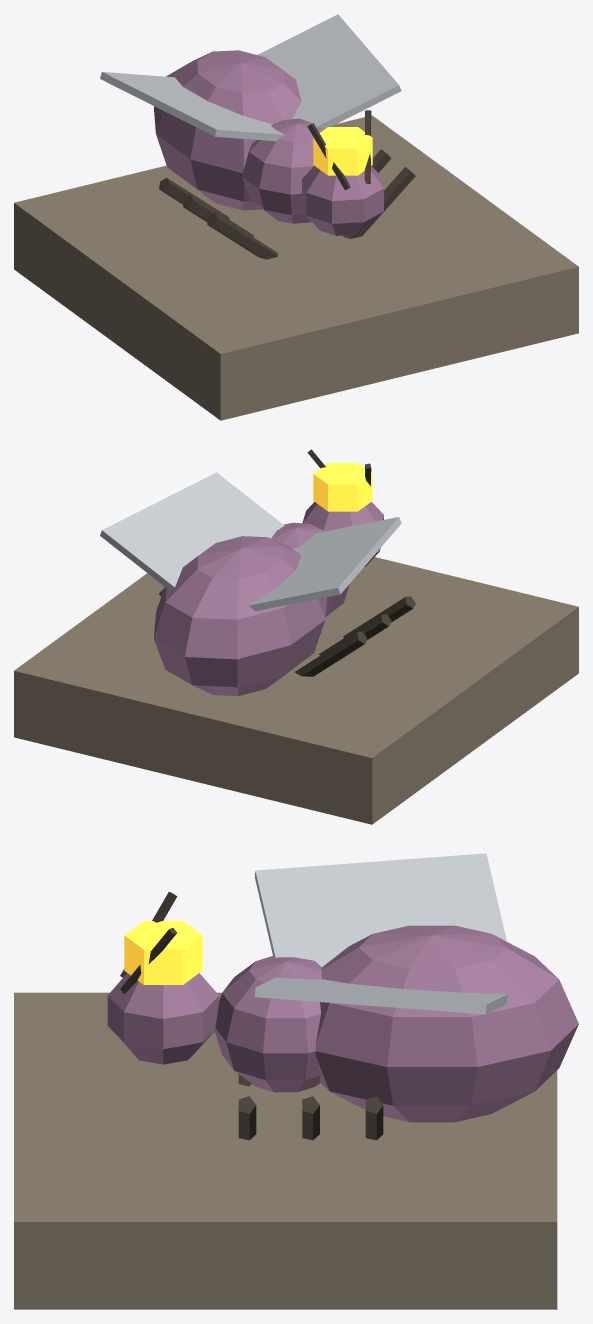
The model's file is bug_queen.glb.
The picture shows the model from 3 angles, top to bottom: view 1: azimuth 30°, elevation 25°; view 2: azimuth 150°, elevation 25°; view 3: azimuth 270°, elevation 25°; orthographic projection. The views are drawn at different scales.
Parts seen in each view (by area): view 1: Base, TurretMesh, HeadMesh, Crown; view 2: Base, TurretMesh, Crown, HeadMesh; view 3: Base, TurretMesh, HeadMesh, Crown.
Boxes of the visible parts, x1,y1,x2,y2 form: Base: [14, 115, 578, 420]; TurretMesh: [100, 14, 415, 259]; HeadMesh: [302, 110, 383, 235]; Crown: [313, 127, 372, 175]; Base: [14, 557, 578, 824]; TurretMesh: [100, 472, 415, 696]; Crown: [313, 463, 372, 511]; HeadMesh: [302, 449, 383, 566]; Base: [14, 992, 557, 1309]; TurretMesh: [214, 853, 578, 1140]; HeadMesh: [107, 891, 219, 1064]; Crown: [124, 921, 202, 984].
Bounding box in the file's own units: 1.8 × 1.04 × 1.87.
